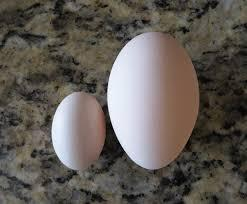egg: (106, 32, 200, 172), (48, 90, 105, 170)
